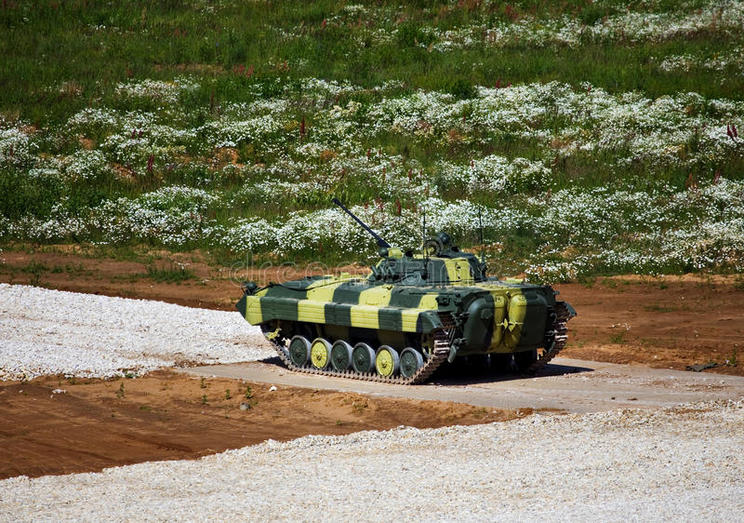bmp: (234, 240, 570, 379)
